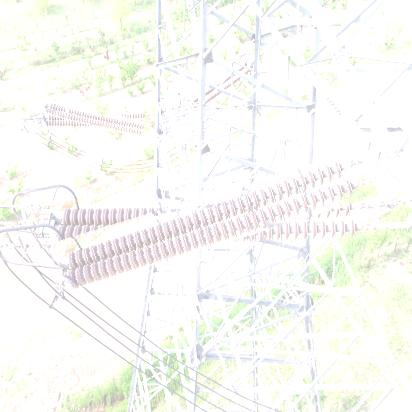insulator: (53, 172, 379, 269), (45, 105, 151, 135)
